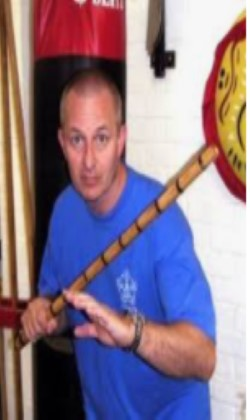baston_e: (57, 149, 205, 305)
baston_v: (196, 131, 225, 167), (9, 330, 29, 354)
